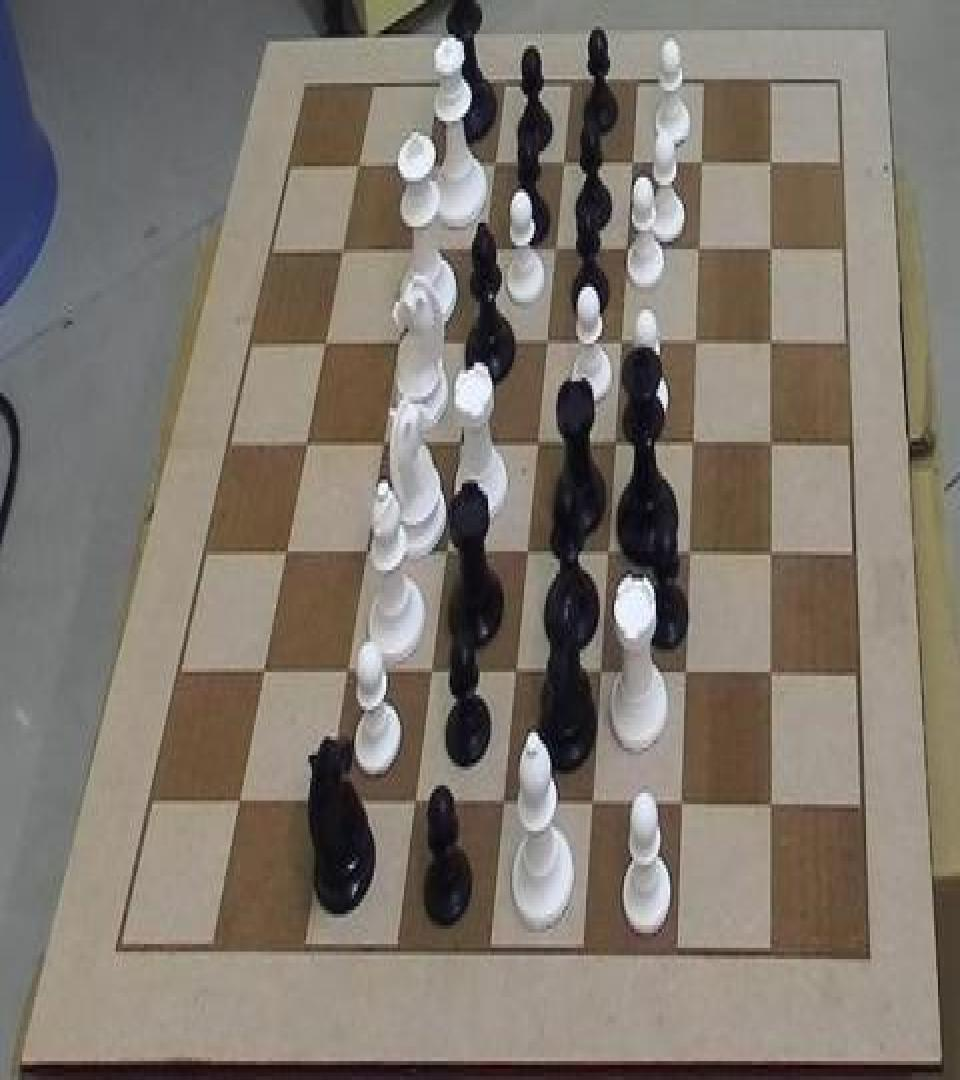xcorner: (761, 142, 781, 180), (691, 144, 711, 182), (622, 144, 642, 182), (553, 144, 573, 182), (484, 146, 504, 184), (416, 146, 436, 184), (348, 146, 368, 184), (761, 228, 781, 266), (689, 228, 709, 266), (617, 230, 637, 268), (545, 230, 565, 268), (474, 230, 494, 268), (403, 230, 423, 268), (332, 230, 352, 268), (761, 322, 781, 360), (686, 322, 706, 360), (611, 322, 631, 360), (537, 322, 557, 360), (462, 322, 482, 360), (388, 322, 408, 360), (315, 322, 335, 360), (762, 424, 782, 462), (683, 424, 703, 462), (605, 424, 625, 462), (527, 424, 547, 462), (450, 424, 470, 462), (373, 424, 393, 462), (296, 424, 316, 462), (762, 534, 782, 572), (680, 534, 700, 572), (598, 534, 618, 572), (517, 534, 537, 572), (436, 534, 456, 572), (356, 534, 376, 572), (276, 534, 296, 572), (763, 657, 783, 695), (677, 657, 697, 695), (591, 655, 611, 693), (506, 655, 526, 693), (422, 655, 442, 693), (337, 653, 357, 691), (254, 653, 274, 691), (763, 791, 783, 829), (673, 789, 693, 827), (583, 789, 603, 827), (494, 787, 514, 825), (405, 786, 425, 824), (317, 786, 337, 824), (229, 784, 249, 822)
